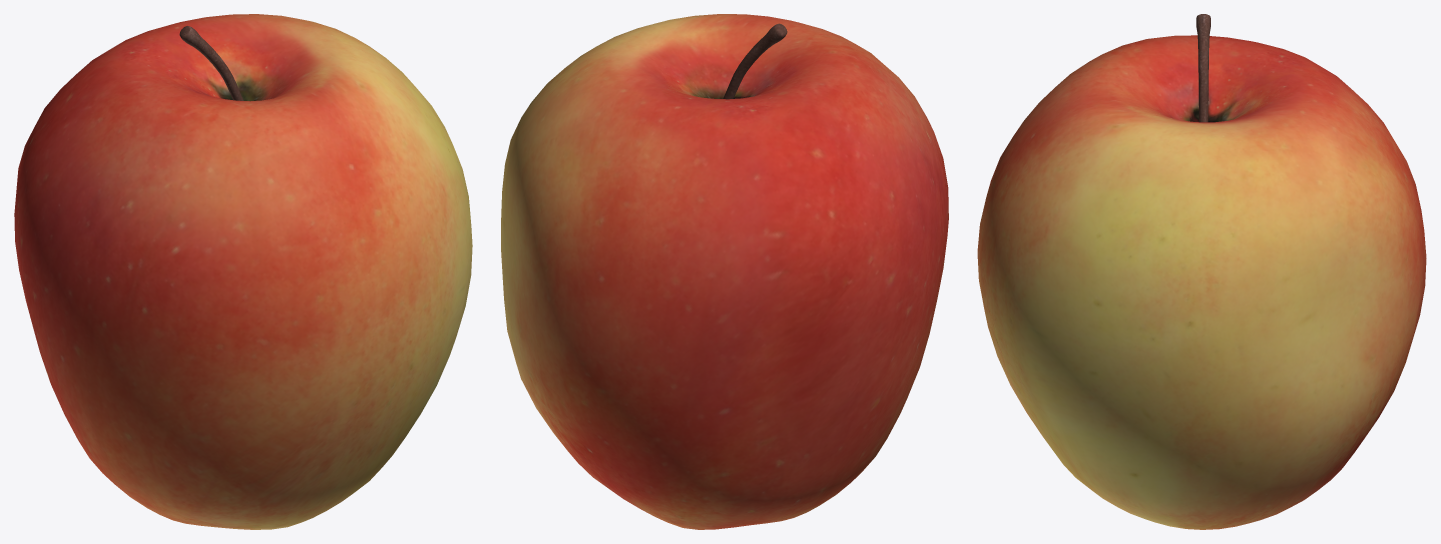
The model's file is apple.glb.
3 views of the same model, side by side, from view 1: azimuth 30°, elevation 25°; view 2: azimuth 150°, elevation 25°; view 3: azimuth 270°, elevation 25° (orthographic). The views are drawn at different scales.
Parts seen in each view (by area): view 1: Sphere; view 2: Sphere; view 3: Sphere.
Part boxes in pixels (x1,y1,x2,y2): Sphere: (14,14,472,529); Sphere: (501,14,948,529); Sphere: (977,14,1426,529).
Size of what is drawn, in the model's own units: 0.828 by 0.9578 by 0.8416.
1 material, 1 textured.
